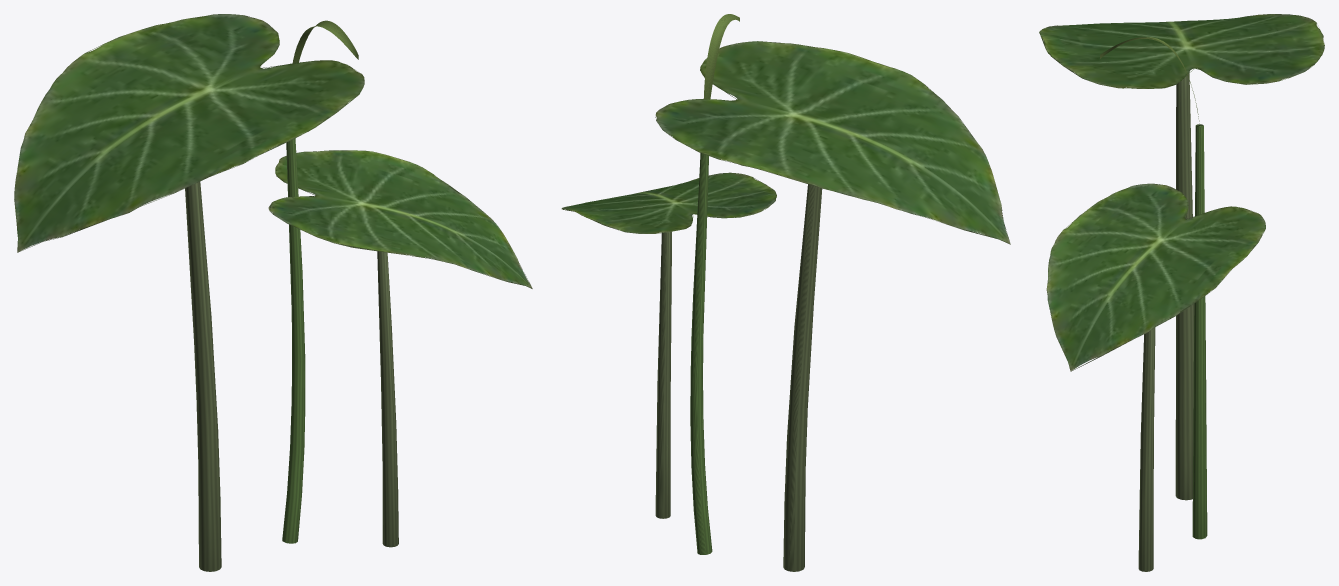
The model's file is taro-1-lite.glb.
3 views of the same model, side by side, from view 1: azimuth 30°, elevation 25°; view 2: azimuth 150°, elevation 25°; view 3: azimuth 270°, elevation 25° (orthographic). The views are drawn at different scales.
Visible parts, largest first — view 1: leaf, petiole, leaf-edge, new-leaf; view 2: leaf, petiole, new-leaf, leaf-edge; view 3: leaf, petiole, leaf-edge.
Part boxes in pixels (x1,y1,x2,y2): leaf: [14, 14, 532, 288]; petiole: [185, 138, 398, 571]; leaf-edge: [14, 16, 532, 288]; new-leaf: [292, 20, 358, 63]; leaf: [562, 41, 1010, 243]; petiole: [655, 153, 822, 571]; new-leaf: [703, 14, 739, 99]; leaf-edge: [562, 41, 1010, 244]; leaf: [1039, 14, 1324, 371]; petiole: [1138, 72, 1207, 571]; leaf-edge: [1039, 14, 1314, 371].
Bounding box in the file's own units: 0.2427 × 0.2638 × 0.1353.
Materials: 5 (4 with a texture image).
